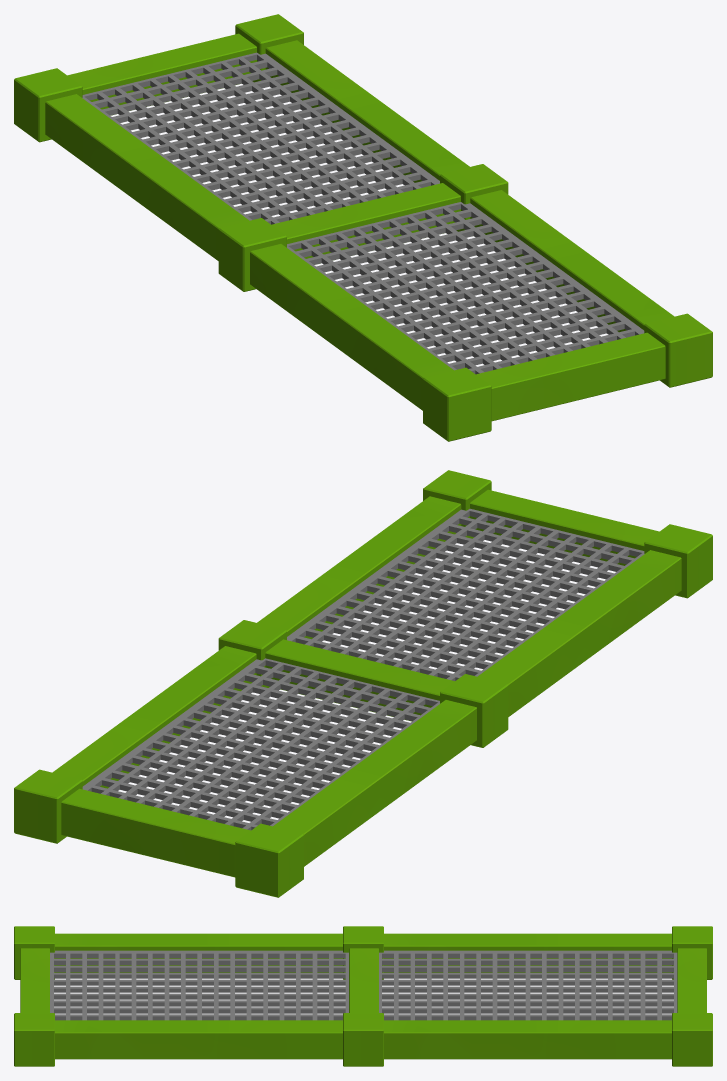
File: BridgeTwoSegmentGreen.fbx
3 renders of one model, top to bottom at view 1: azimuth 30°, elevation 25°; view 2: azimuth 150°, elevation 25°; view 3: azimuth 270°, elevation 25°, orthographic. The views are drawn at different scales.
Parts seen in each view (by area): view 1: Cube, Grate.001; view 2: Cube, Grate.001; view 3: Cube, Grate.001.
Part boxes in pixels (left/top/right/bottom): Cube: left=14, top=14, right=712, bottom=441; Grate.001: left=82, top=52, right=644, bottom=374; Cube: left=14, top=470, right=712, bottom=897; Grate.001: left=82, top=508, right=644, bottom=830; Cube: left=14, top=926, right=712, bottom=1066; Grate.001: left=50, top=950, right=677, bottom=1020.
Size of the model in its own units: 6 by 1 by 17.
